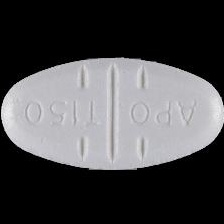60429-230: (0, 0, 224, 224)
